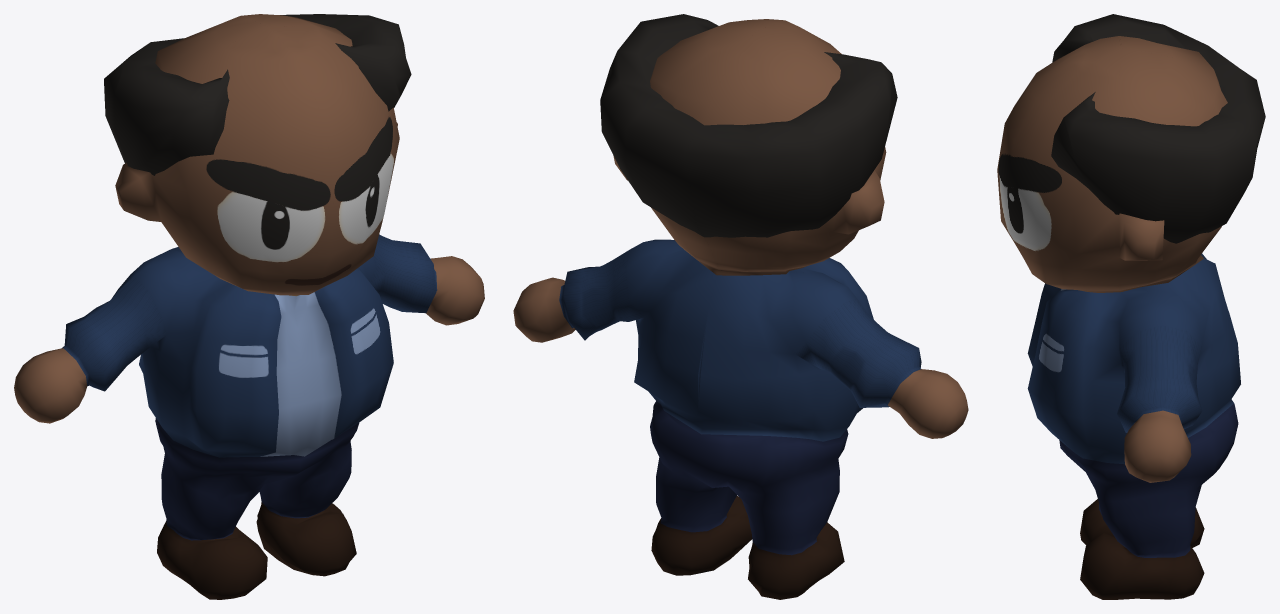
The model's file is Paciente.fbx.
The picture shows the model from 3 angles, left to right: view 1: azimuth 30°, elevation 25°; view 2: azimuth 150°, elevation 25°; view 3: azimuth 270°, elevation 25°; orthographic projection. The views are drawn at different scales.
Parts seen in each view (by area): view 1: Body, Head; view 2: Body, Head; view 3: Head, Body.
Boxes of the visible parts, x1,y1,x2,y2 form: Body: (14, 234, 484, 599); Head: (104, 14, 411, 296); Body: (513, 239, 968, 599); Head: (600, 14, 897, 275); Head: (997, 14, 1265, 292); Body: (1027, 253, 1240, 599).
Size of the model in its own units: 83.62 by 95.96 by 44.75.
1 material, 1 textured.
